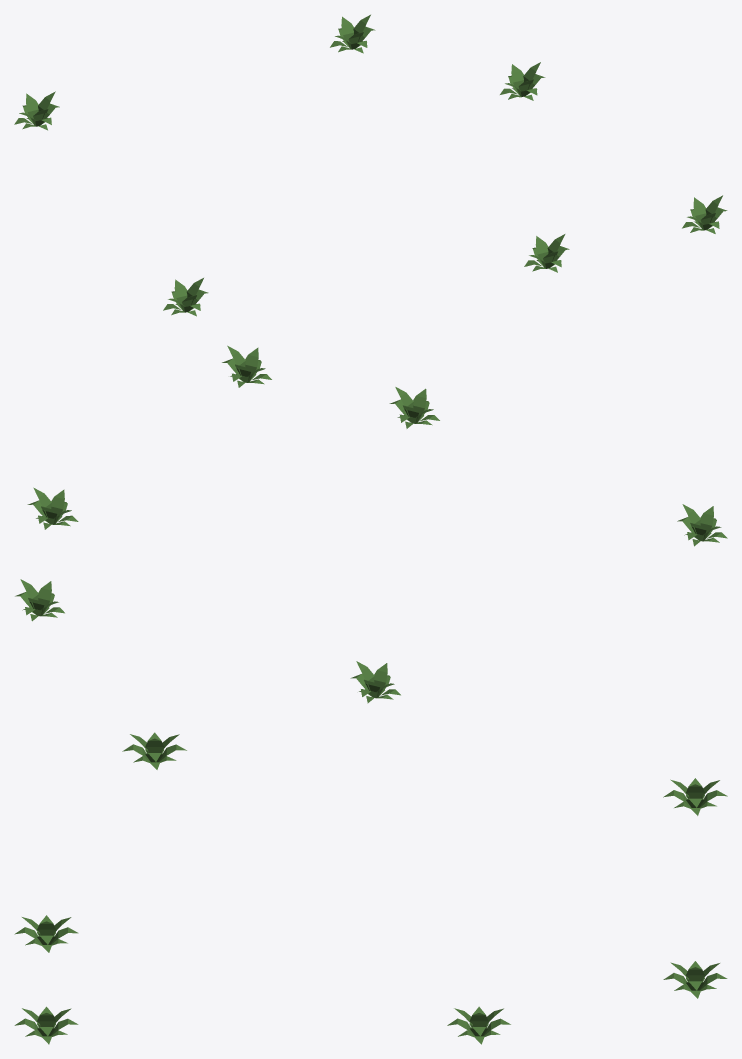
The model's file is poisson.glb.
3 views of the same model, one above another, from view 1: azimuth 30°, elevation 25°; view 2: azimuth 150°, elevation 25°; view 3: azimuth 270°, elevation 25° (orthographic). The views are drawn at different scales.
Parts seen in each view (by area): view 1: mergedBlocks(Clone); view 2: mergedBlocks(Clone); view 3: mergedBlocks(Clone).
Part boxes in pixels (x1,y1,x2,y2): mergedBlocks(Clone): (14, 14, 727, 316); mergedBlocks(Clone): (15, 345, 727, 703); mergedBlocks(Clone): (14, 732, 727, 1044).
Size of the model in its own units: 6.6 by 0.3604 by 6.6.
Materials: 1 (1 with a texture image).
